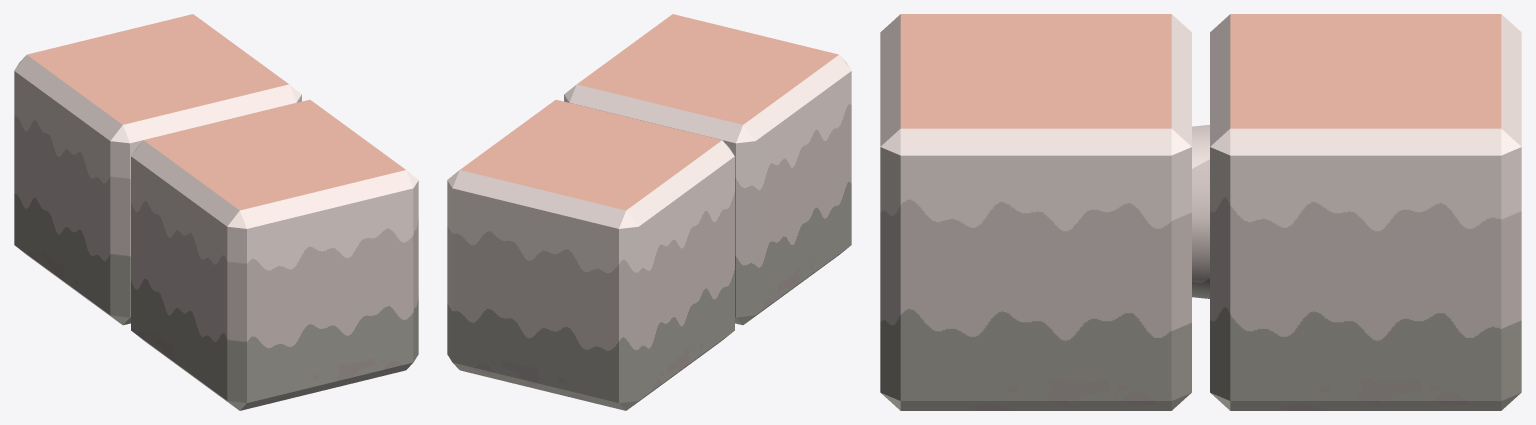
The model's file is R4C_STRUT_SHORT_LOD1.glb.
3 views of the same model, side by side, from view 1: azimuth 30°, elevation 25°; view 2: azimuth 150°, elevation 25°; view 3: azimuth 270°, elevation 25° (orthographic). The views are drawn at different scales.
Parts seen in each view (by area): view 1: R4C_STRUT_SHORT_LOD1; view 2: R4C_STRUT_SHORT_LOD1; view 3: R4C_STRUT_SHORT_LOD1.
Boxes of the visible parts, x1,y1,x2,y2 form: R4C_STRUT_SHORT_LOD1: (14,14,418,410); R4C_STRUT_SHORT_LOD1: (447,14,851,410); R4C_STRUT_SHORT_LOD1: (880,14,1521,410).
Size of the model in its own units: 0.52 by 0.52 by 1.07.
3 materials, 3 textured.
